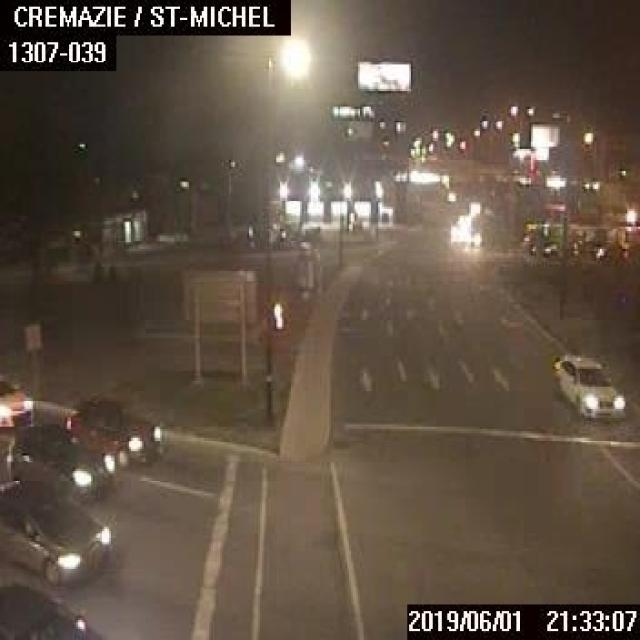bus: (523, 222, 638, 258)
vehicle: (0, 478, 109, 586), (6, 421, 113, 502), (64, 396, 160, 469), (0, 582, 105, 637), (550, 352, 626, 420), (0, 370, 31, 426)
